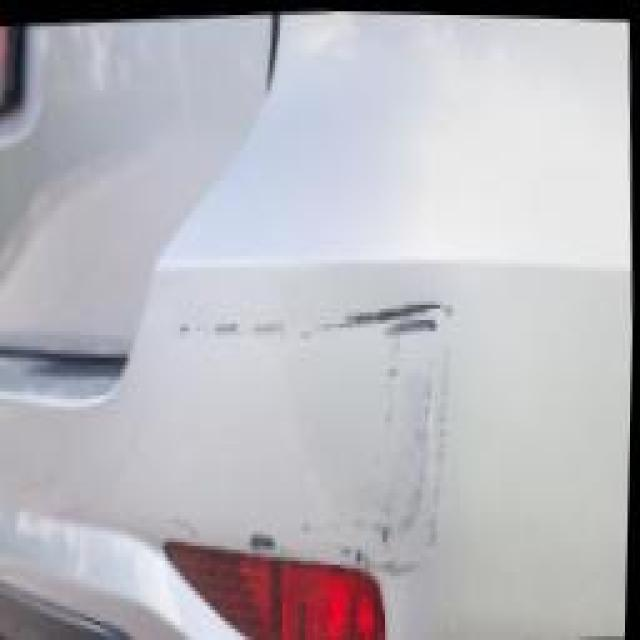Bumper: (145, 260, 484, 615)
